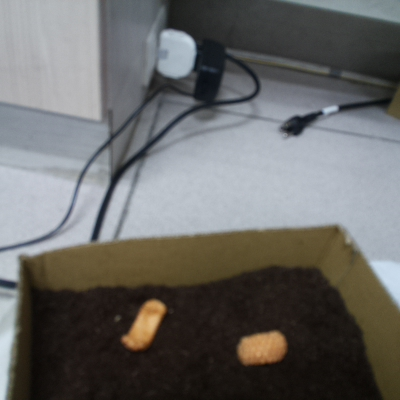eggs: (113, 292, 170, 352), (232, 324, 291, 366)
